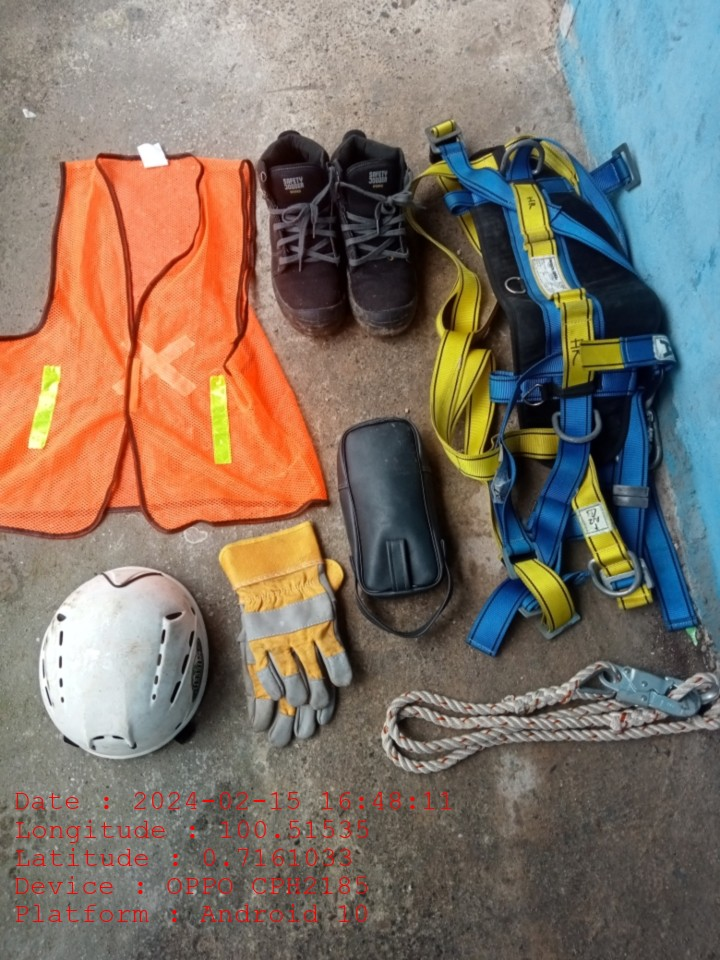HELM: (36, 565, 208, 761)
ROMPI: (39, 145, 265, 519)
SARUNG_TANGAN: (221, 524, 345, 746)
SEPATU: (256, 131, 411, 340)
TAMBANG_SLING: (378, 660, 720, 776)
